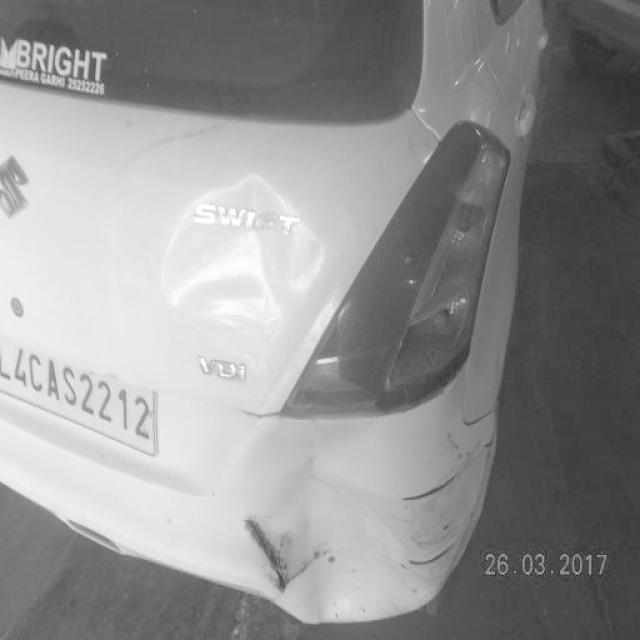car damage: (241, 460, 427, 625), (159, 179, 321, 348), (404, 438, 494, 572)
